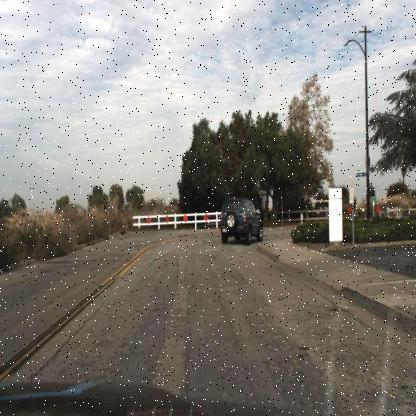car: (219, 196, 267, 240)
